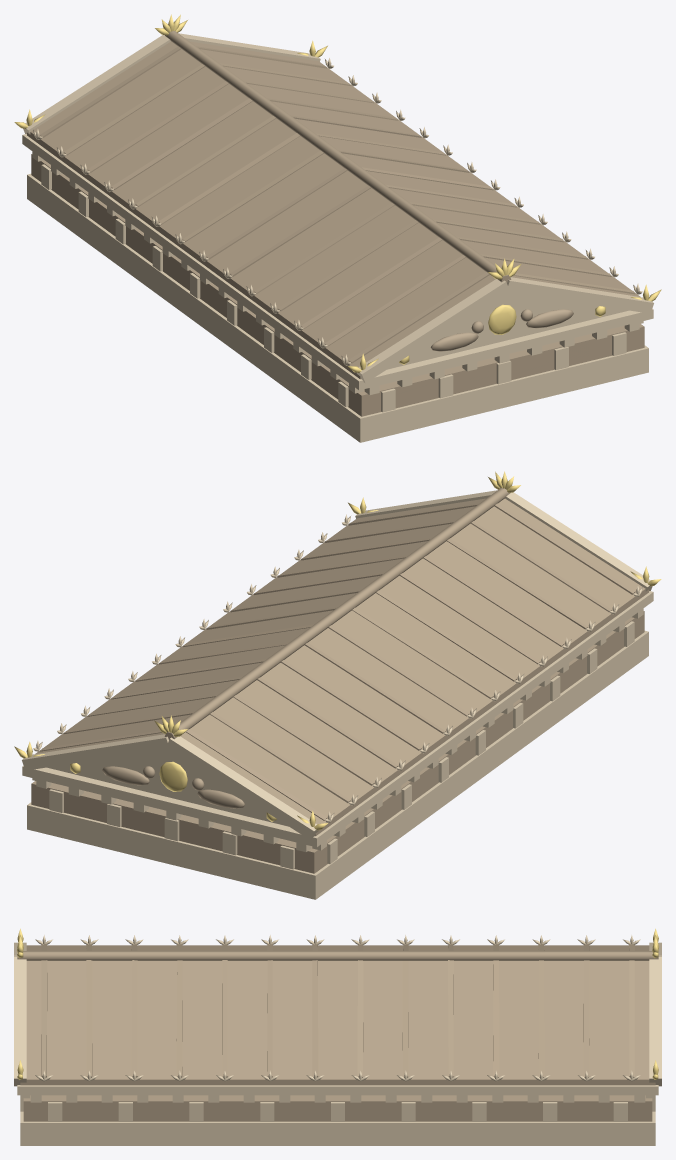
Rendered from building.pediment.glb.
3 renders of one model, top to bottom at view 1: azimuth 30°, elevation 25°; view 2: azimuth 150°, elevation 25°; view 3: azimuth 270°, elevation 25°, orthographic. The views are drawn at different scales.
Parts seen in each view (by area): view 1: PaintDark, Paint, Gold; view 2: PaintDark, Paint, Gold; view 3: PaintDark, Paint, Gold.
Boxes of the visible parts, x1=… form: PaintDark: x1=27, y1=31, x2=644, y2=416; Paint: x1=22, y1=33, x2=653, y2=442; Gold: x1=14, y1=14, x2=661, y2=372; PaintDark: x1=31, y1=488, x2=648, y2=873; Paint: x1=22, y1=490, x2=653, y2=899; Gold: x1=14, y1=471, x2=661, y2=830; PaintDark: x1=17, y1=944, x2=658, y2=1121; Paint: x1=14, y1=935, x2=661, y2=1145; Gold: x1=17, y1=928, x2=658, y2=1079.
Size of the model in its own units: 2.18 by 0.99 by 4.08.
